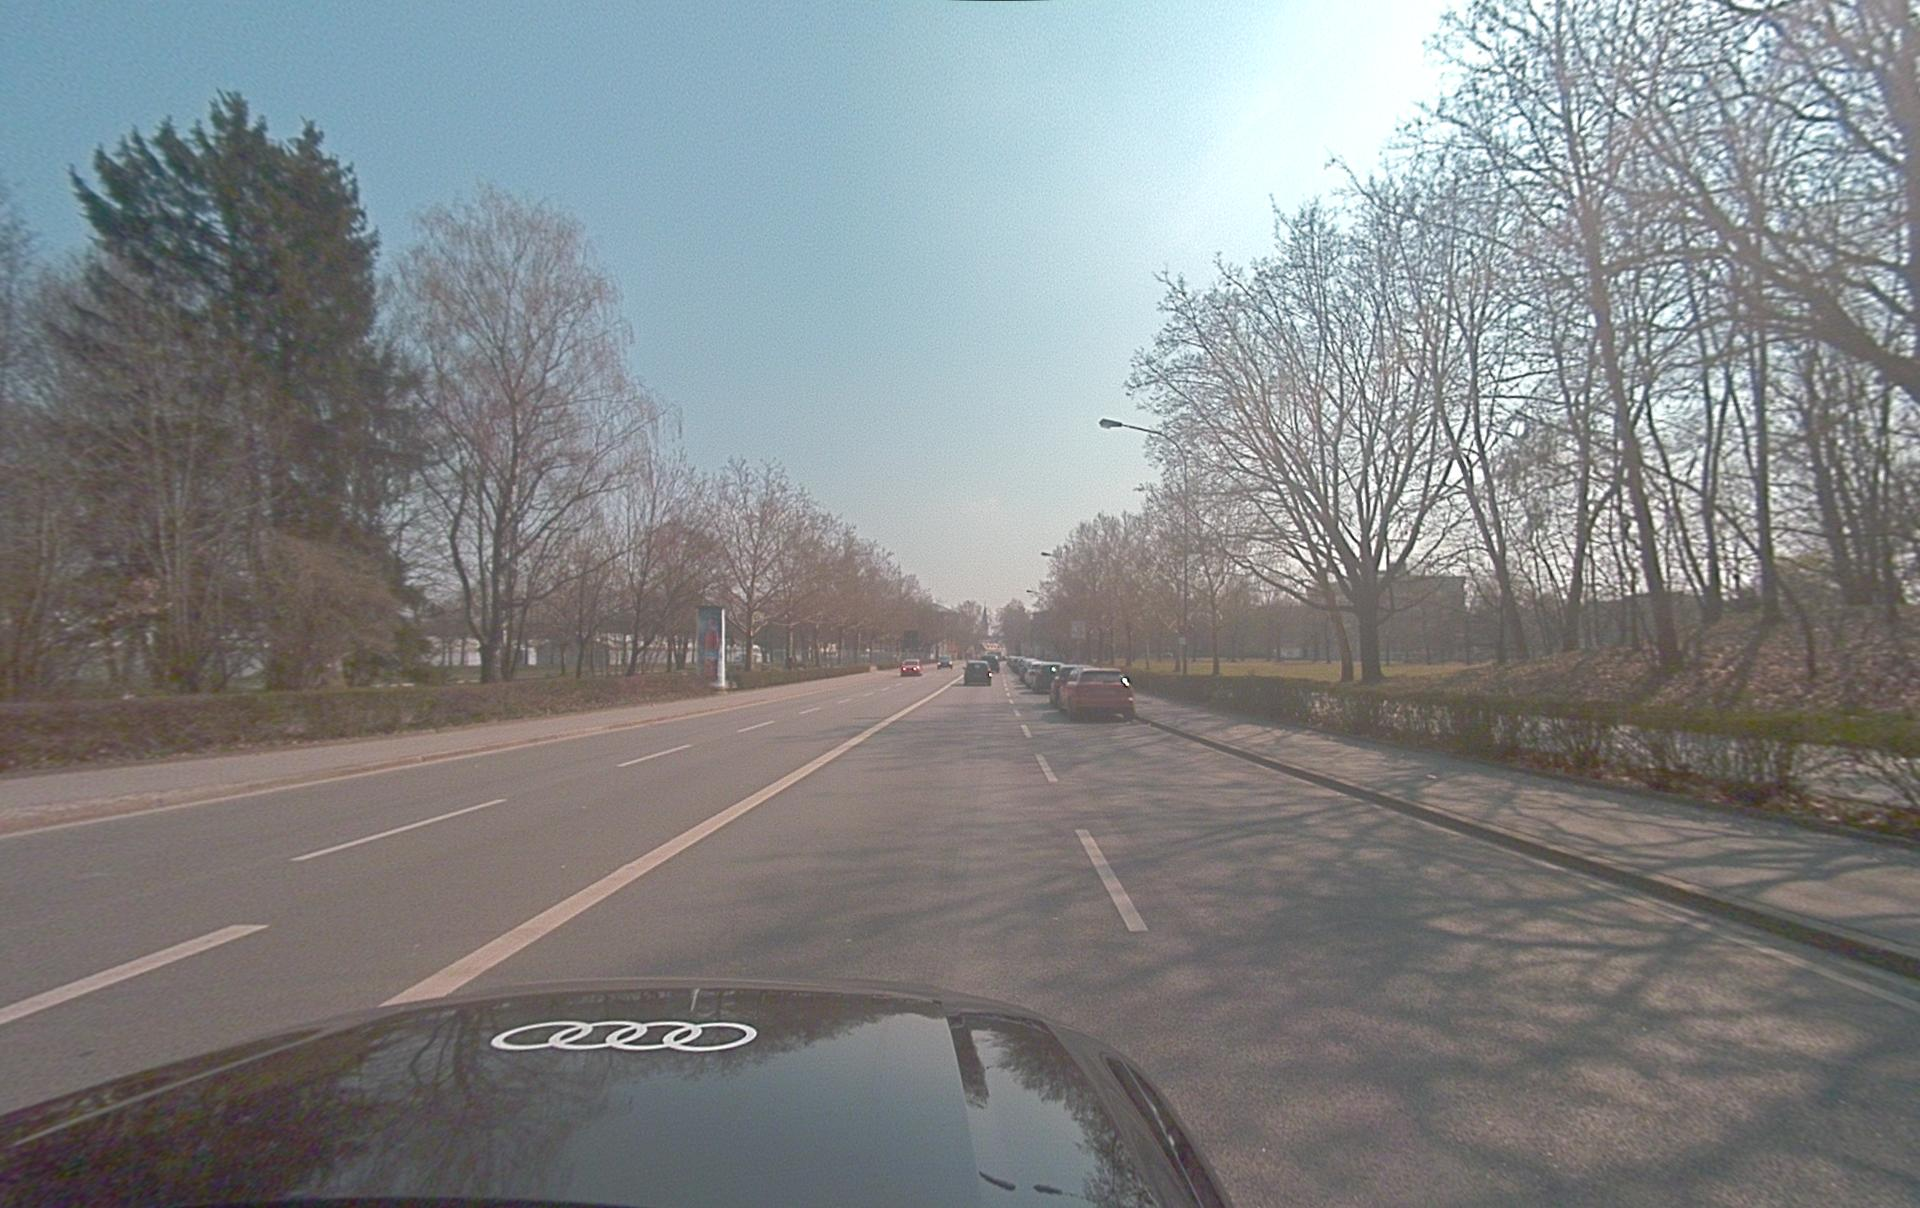car: (0, 976, 1234, 1208), (1057, 668, 1135, 721), (1049, 665, 1084, 707), (963, 661, 992, 686), (900, 658, 922, 675), (938, 657, 952, 669)
